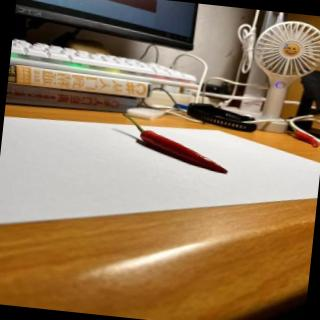Cabai Merah: (117, 114, 234, 174)
